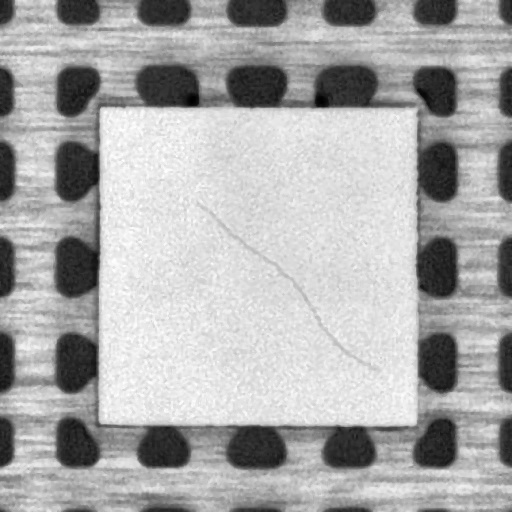DIE_CRACK: (198, 204, 376, 369)
